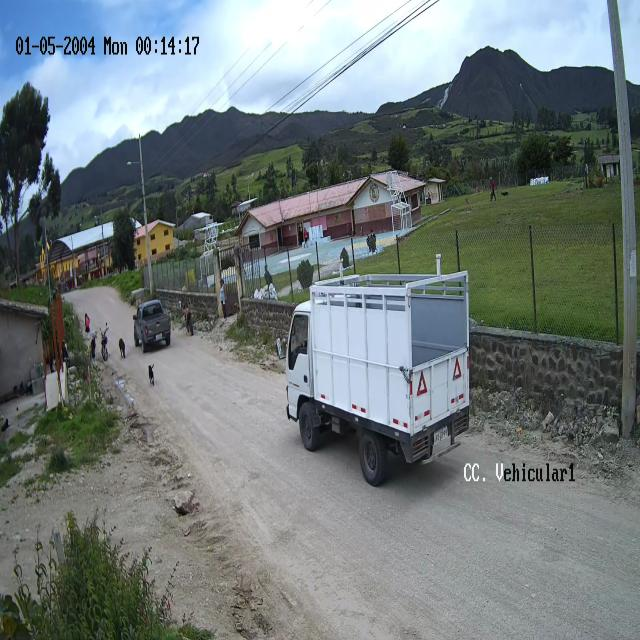CMT: (132, 299, 170, 353)
TRUCK: (282, 269, 468, 484)
